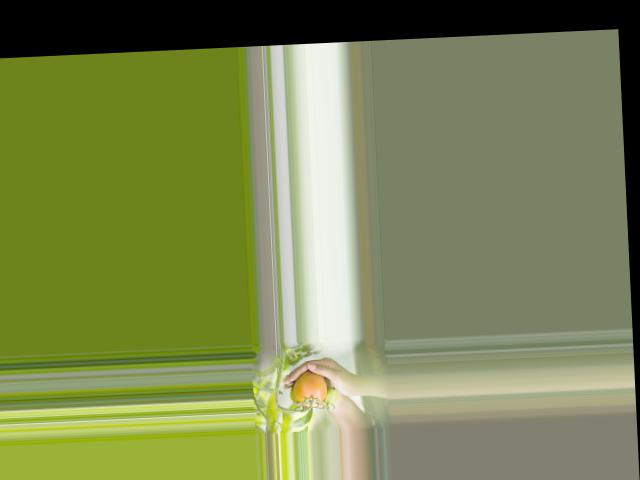tomato: (294, 371, 328, 406)
